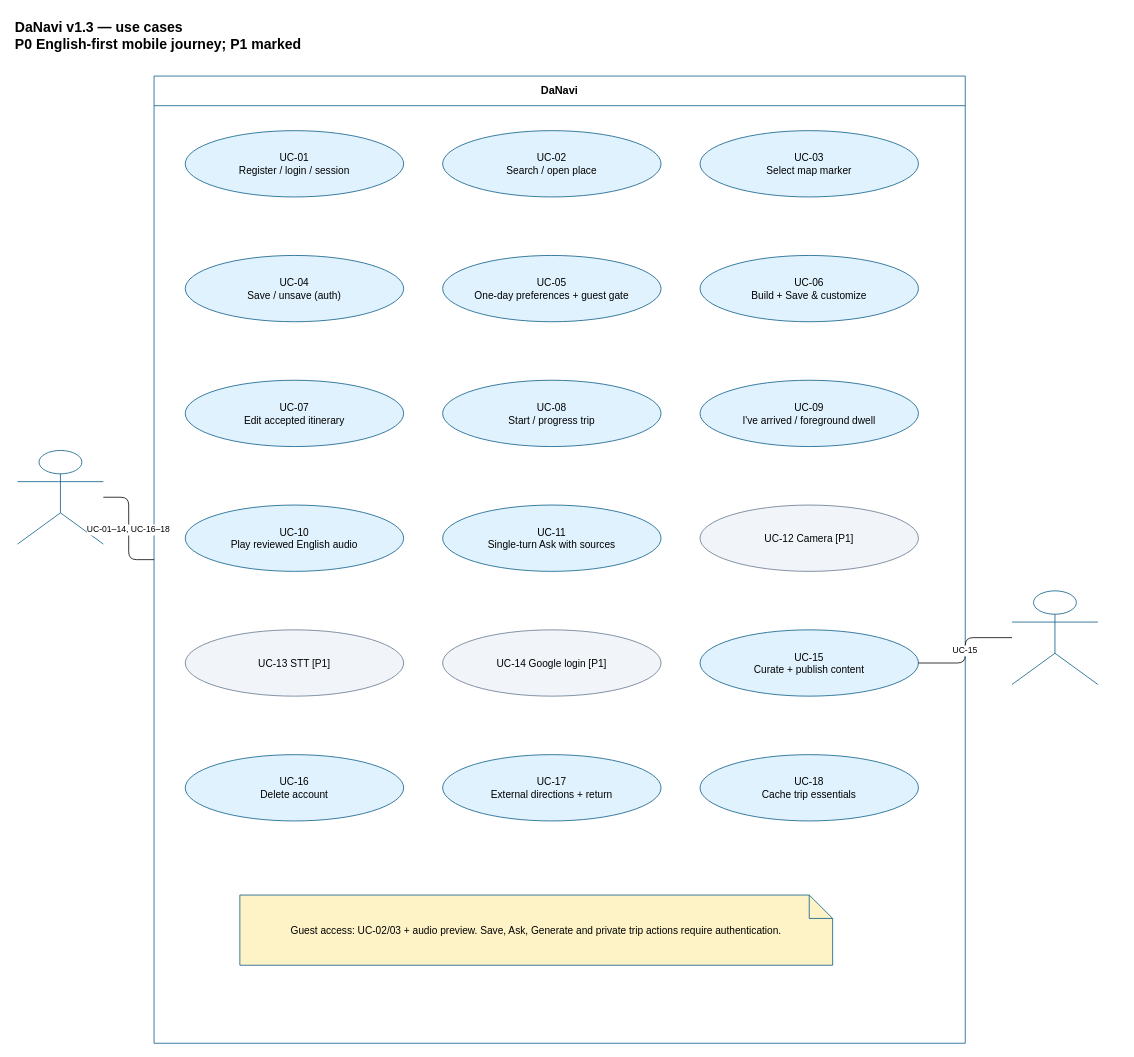
This 1134x1057 diagram has some shape labels left out. Each missing label, with the box of its shape:
Curator: (1011, 590, 1098, 684)
Traveler: (17, 450, 103, 544)
